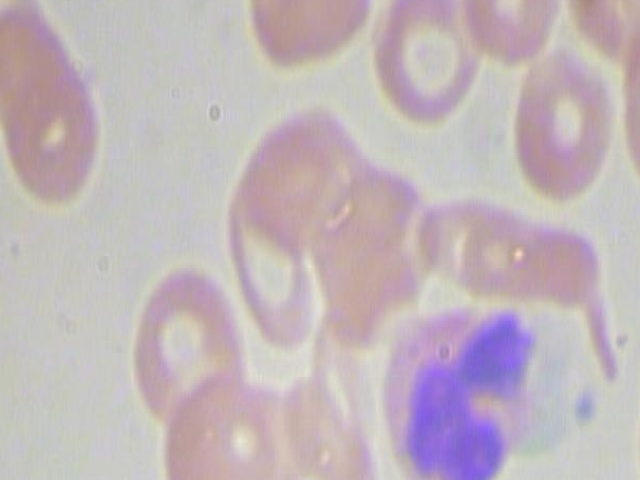Platelets: (567, 383, 601, 429)
RBC: (122, 263, 252, 428), (0, 48, 125, 212), (211, 192, 329, 355), (504, 48, 619, 205), (235, 104, 364, 243), (324, 151, 443, 296), (458, 198, 601, 303), (367, 0, 483, 128), (184, 366, 287, 480), (247, 0, 376, 78), (455, 0, 571, 73), (569, 0, 640, 63)
WBC: (378, 292, 545, 480)
